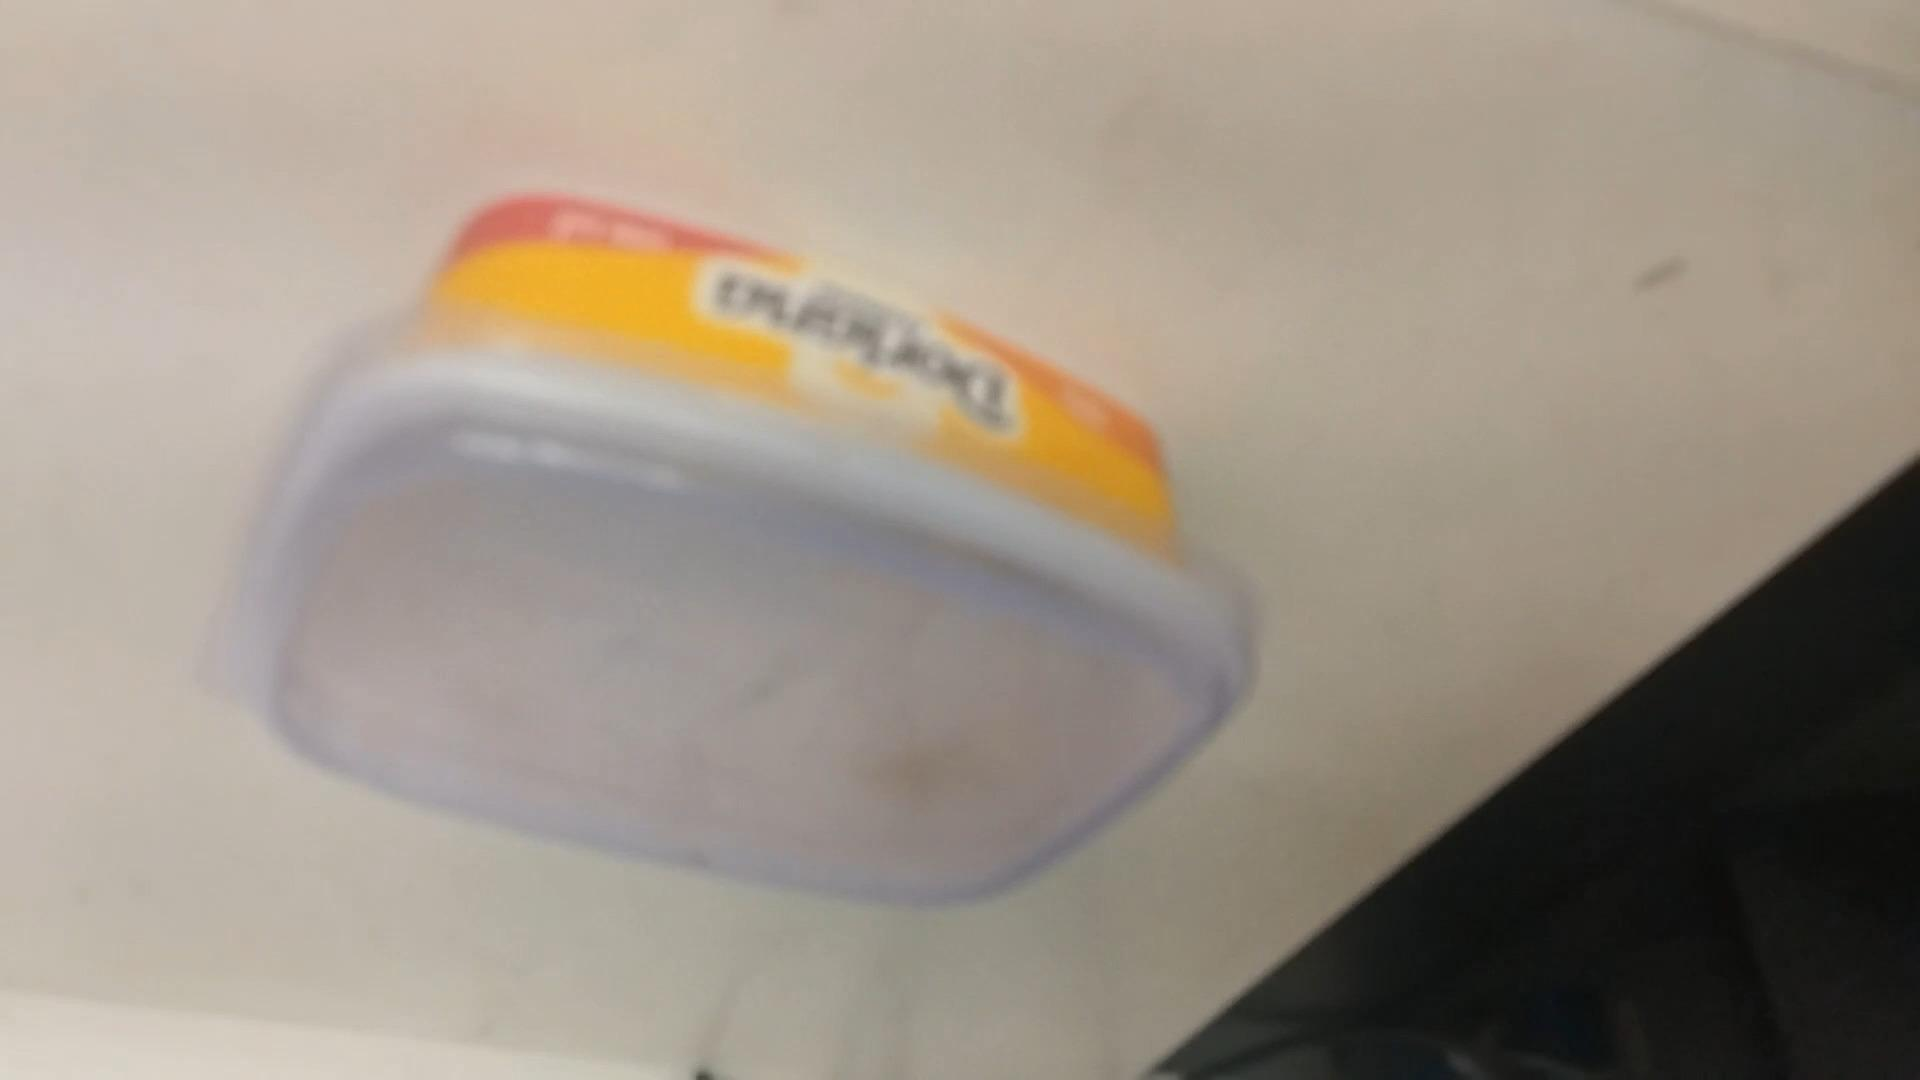butter: (200, 200, 1262, 923)
